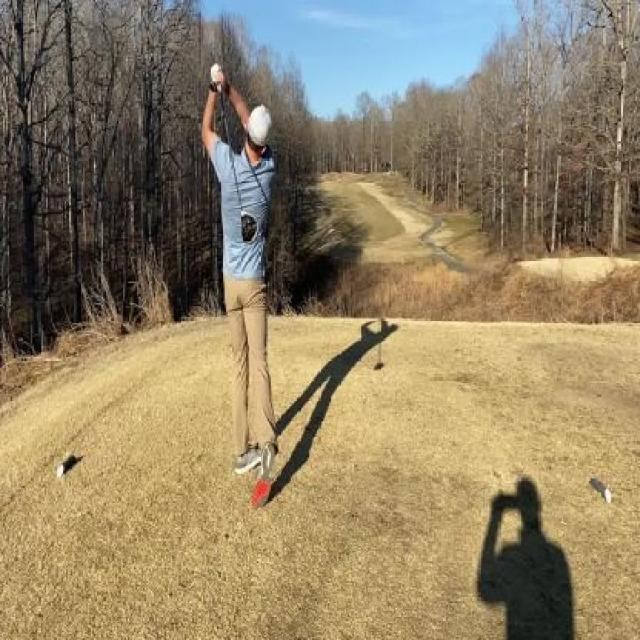club head: (238, 202, 258, 246)
